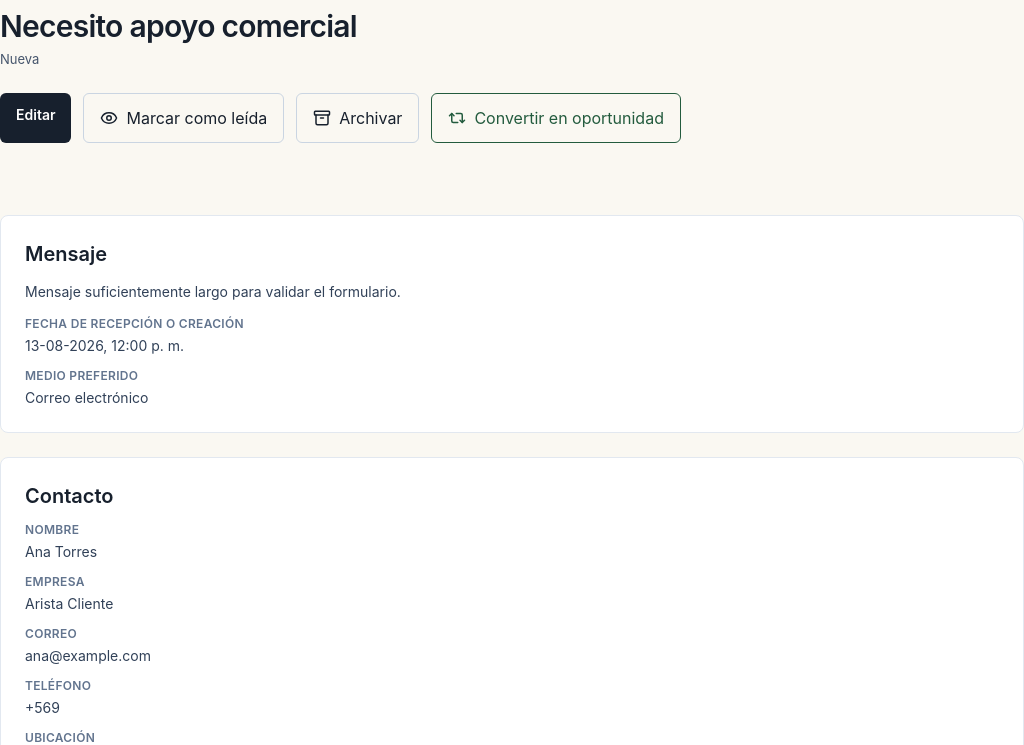
Test: AdminInquiries › converts inquiry through one atomic repository operation
Click the button "Convertir en oportunidad". click: (556, 118)
box: x1=431 y1=93 x2=681 y2=143
(page scrolled)
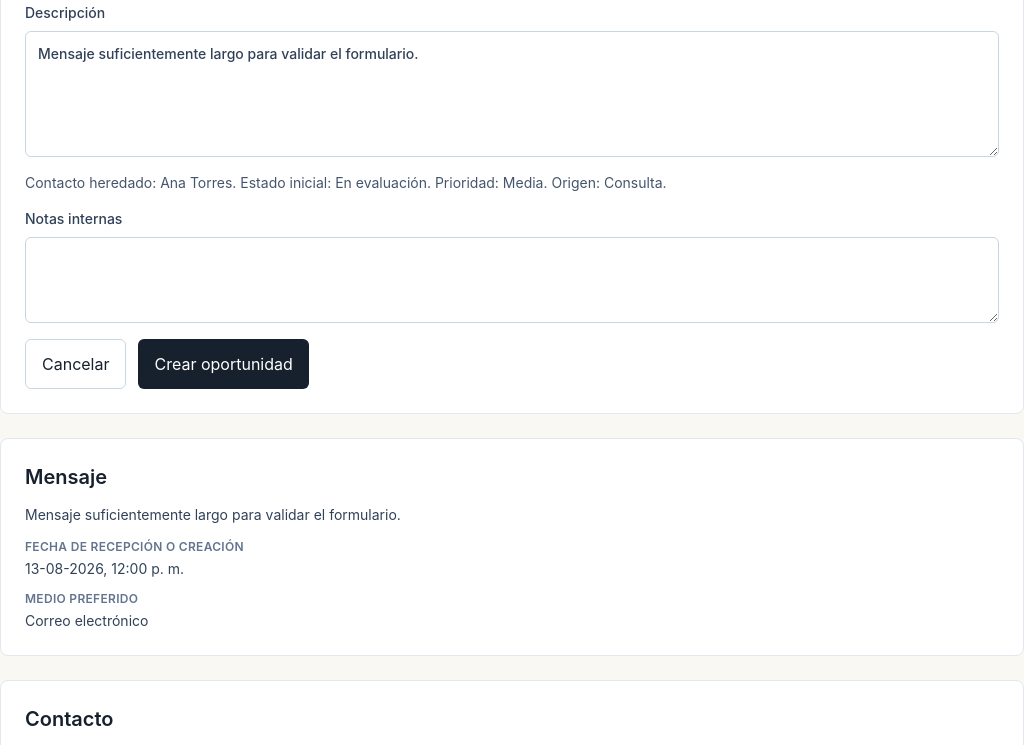
Click the button "Crear oportunidad". click: (224, 364)
box: x1=138 y1=339 x2=309 y2=389
(page scrolled)
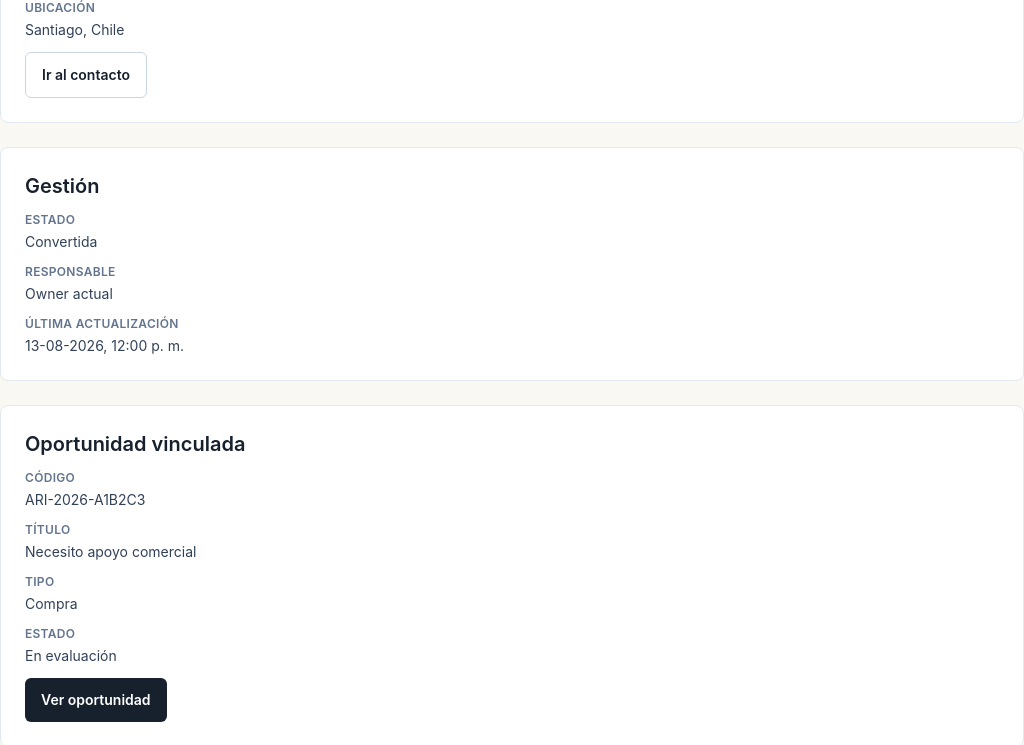
Expected: the heading "Oportunidad vinculada" is shown, x1=25 y1=432 x2=245 y2=456
Expected: the text "ARI-2026-A1B2C3" is shown, x1=25 y1=491 x2=145 y2=508
